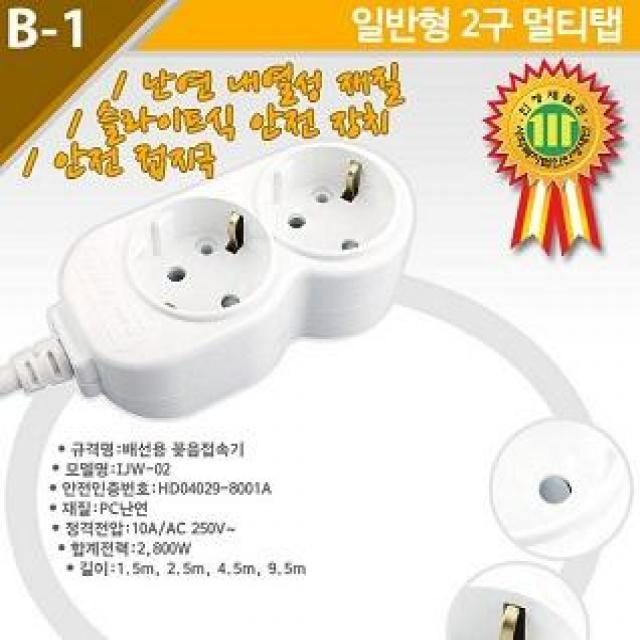typeb: (0, 126, 436, 404)
